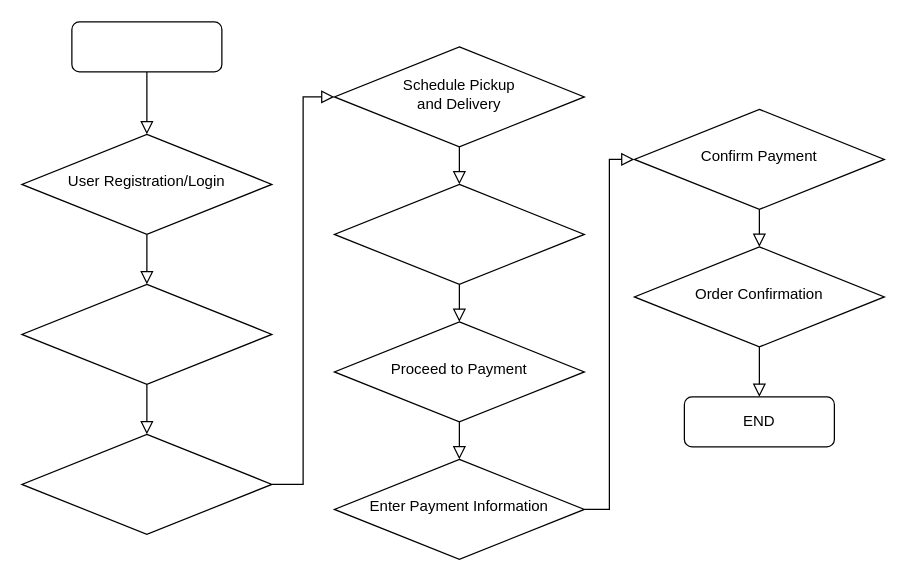
Some shapes in this 906 by 581 pixel diagram are drawn without their labels. Each missing label, with the box of its shape:
Customize Service Preferences: (21, 433, 272, 534)
Review Order Details: (333, 183, 584, 284)
Select Laundry Services: (21, 283, 272, 384)
START: (71, 21, 222, 72)
